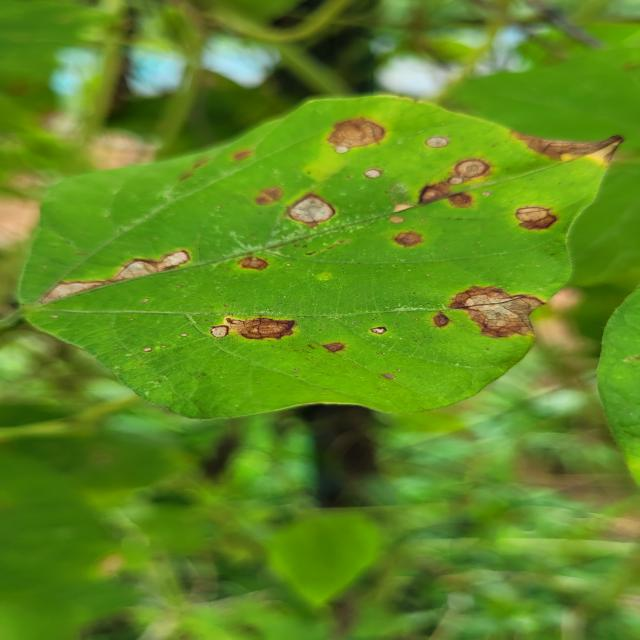Dolicos bean_cercospora leaf spot: (20, 94, 612, 417)
